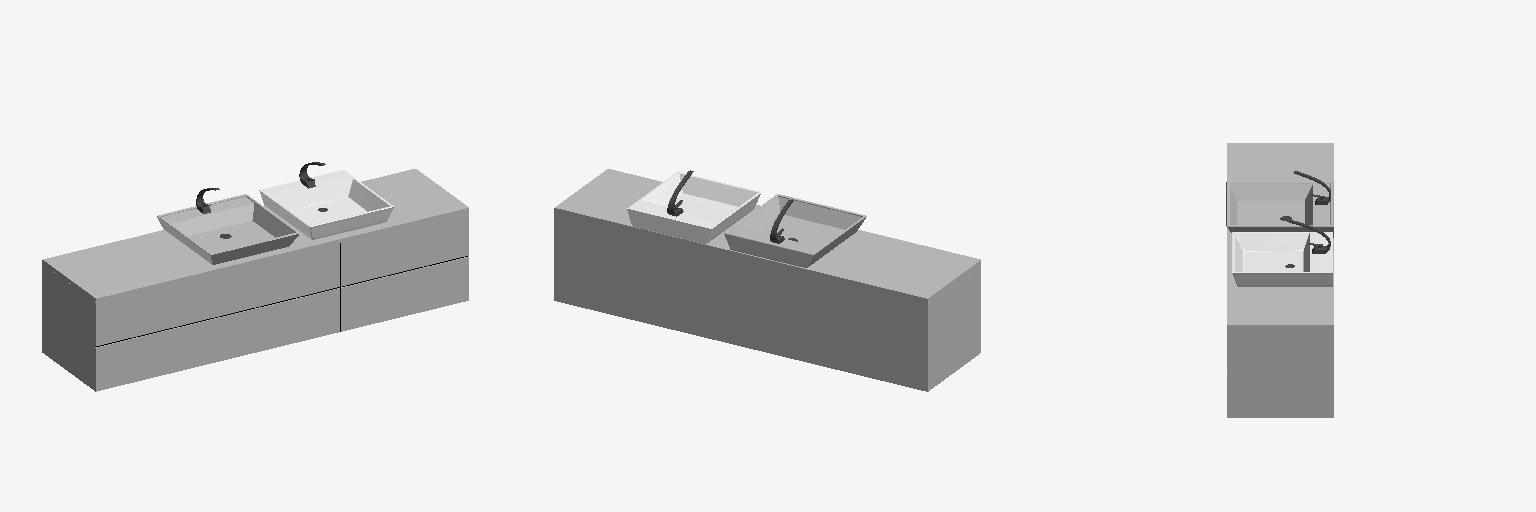
Rendered from sink.obj.
3 views of the same model, side by side, from view 1: azimuth 30°, elevation 25°; view 2: azimuth 150°, elevation 25°; view 3: azimuth 270°, elevation 25° (orthographic).
Visible parts, largest first — view 1: Cube_Cube.008, Plane.001_Plane.002, Cube.004_Cube.006, Cube.002_Cube.001; view 2: Cube_Cube.008, Plane.001_Plane.002, Cube.002_Cube.001, Cube.004_Cube.006; view 3: Cube_Cube.008, Plane.001_Plane.002, Cube.004_Cube.006, Cube.002_Cube.001.
Part boxes in pixels (x1,y1,x2,y2): Cube_Cube.008: (42,212,468,391); Plane.001_Plane.002: (42,169,468,302); Cube.004_Cube.006: (259,162,393,239); Cube.002_Cube.001: (157,194,299,264); Cube_Cube.008: (554,212,980,391); Plane.001_Plane.002: (554,169,980,302); Cube.002_Cube.001: (724,194,866,267); Cube.004_Cube.006: (627,170,761,243); Cube_Cube.008: (1227,329,1333,417); Plane.001_Plane.002: (1227,143,1333,328); Cube.004_Cube.006: (1232,220,1332,286); Cube.002_Cube.001: (1226,182,1333,237).
Bounding box in the file's own units: 8.78 × 3.18 × 2.19.